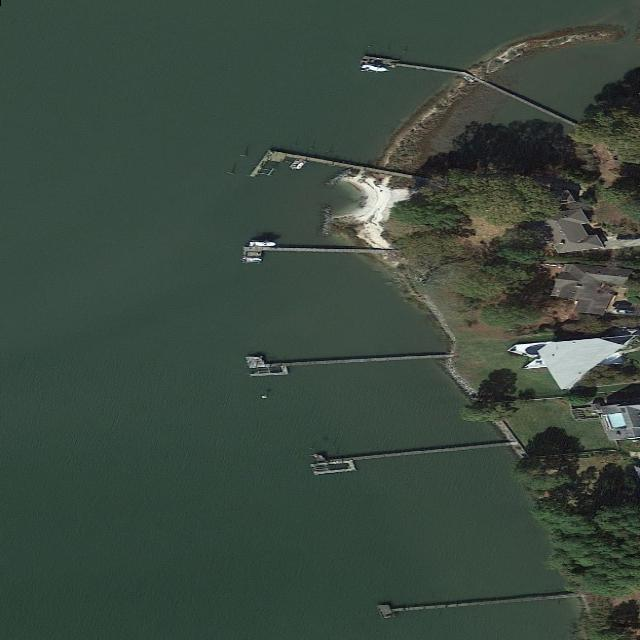ship: (357, 64, 394, 75), (248, 240, 279, 247), (294, 162, 307, 170), (242, 258, 265, 262)
small-vehicle: (612, 301, 636, 309), (612, 308, 635, 316)
